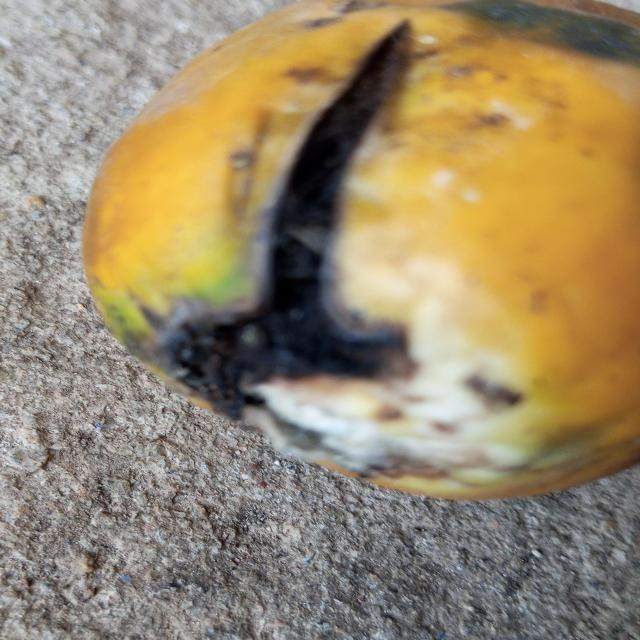damaged: (82, 0, 640, 504)
